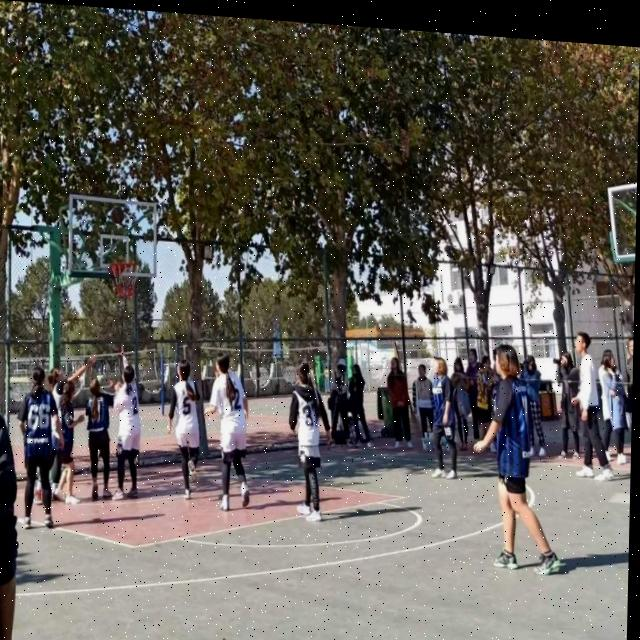basketball: (111, 206, 125, 225)
hoop: (112, 261, 140, 301)
